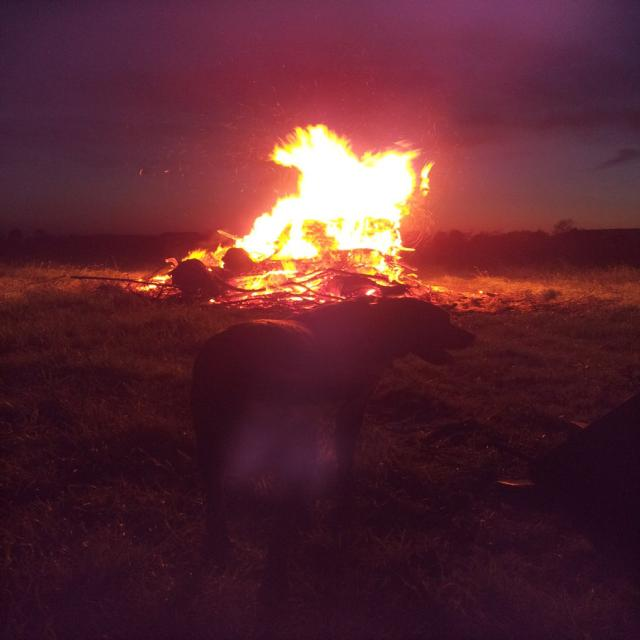Dog: (121, 248, 529, 525)
